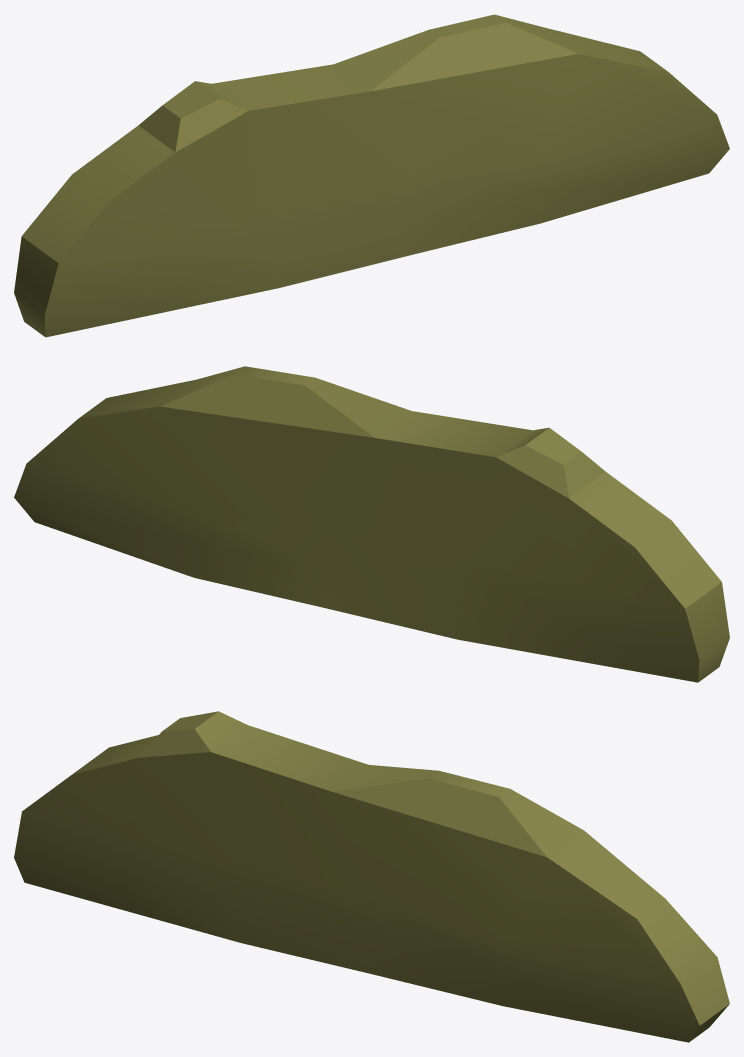
The model's file is bushwall01.fbx.
3 views of the same model, one above another, from view 1: azimuth 30°, elevation 25°; view 2: azimuth 150°, elevation 25°; view 3: azimuth 330°, elevation 25° (orthographic).
Visible parts, largest first — view 1: Cube.006; view 2: Cube.006; view 3: Cube.006.
Boxes of the visible parts, x1,y1,x2,y2 form: Cube.006: (14, 14, 729, 337); Cube.006: (14, 366, 729, 682); Cube.006: (14, 711, 729, 1042).
Size of the model in its own units: 8 by 2.2 by 1.
